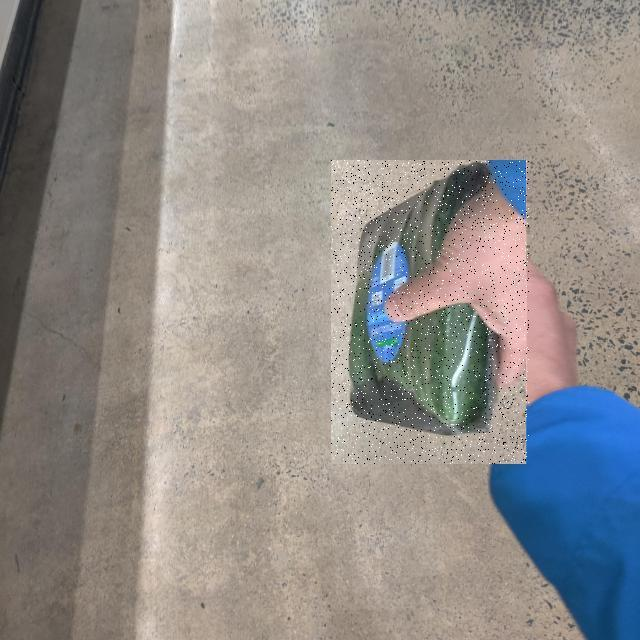Cucumber: (332, 160, 530, 464)
